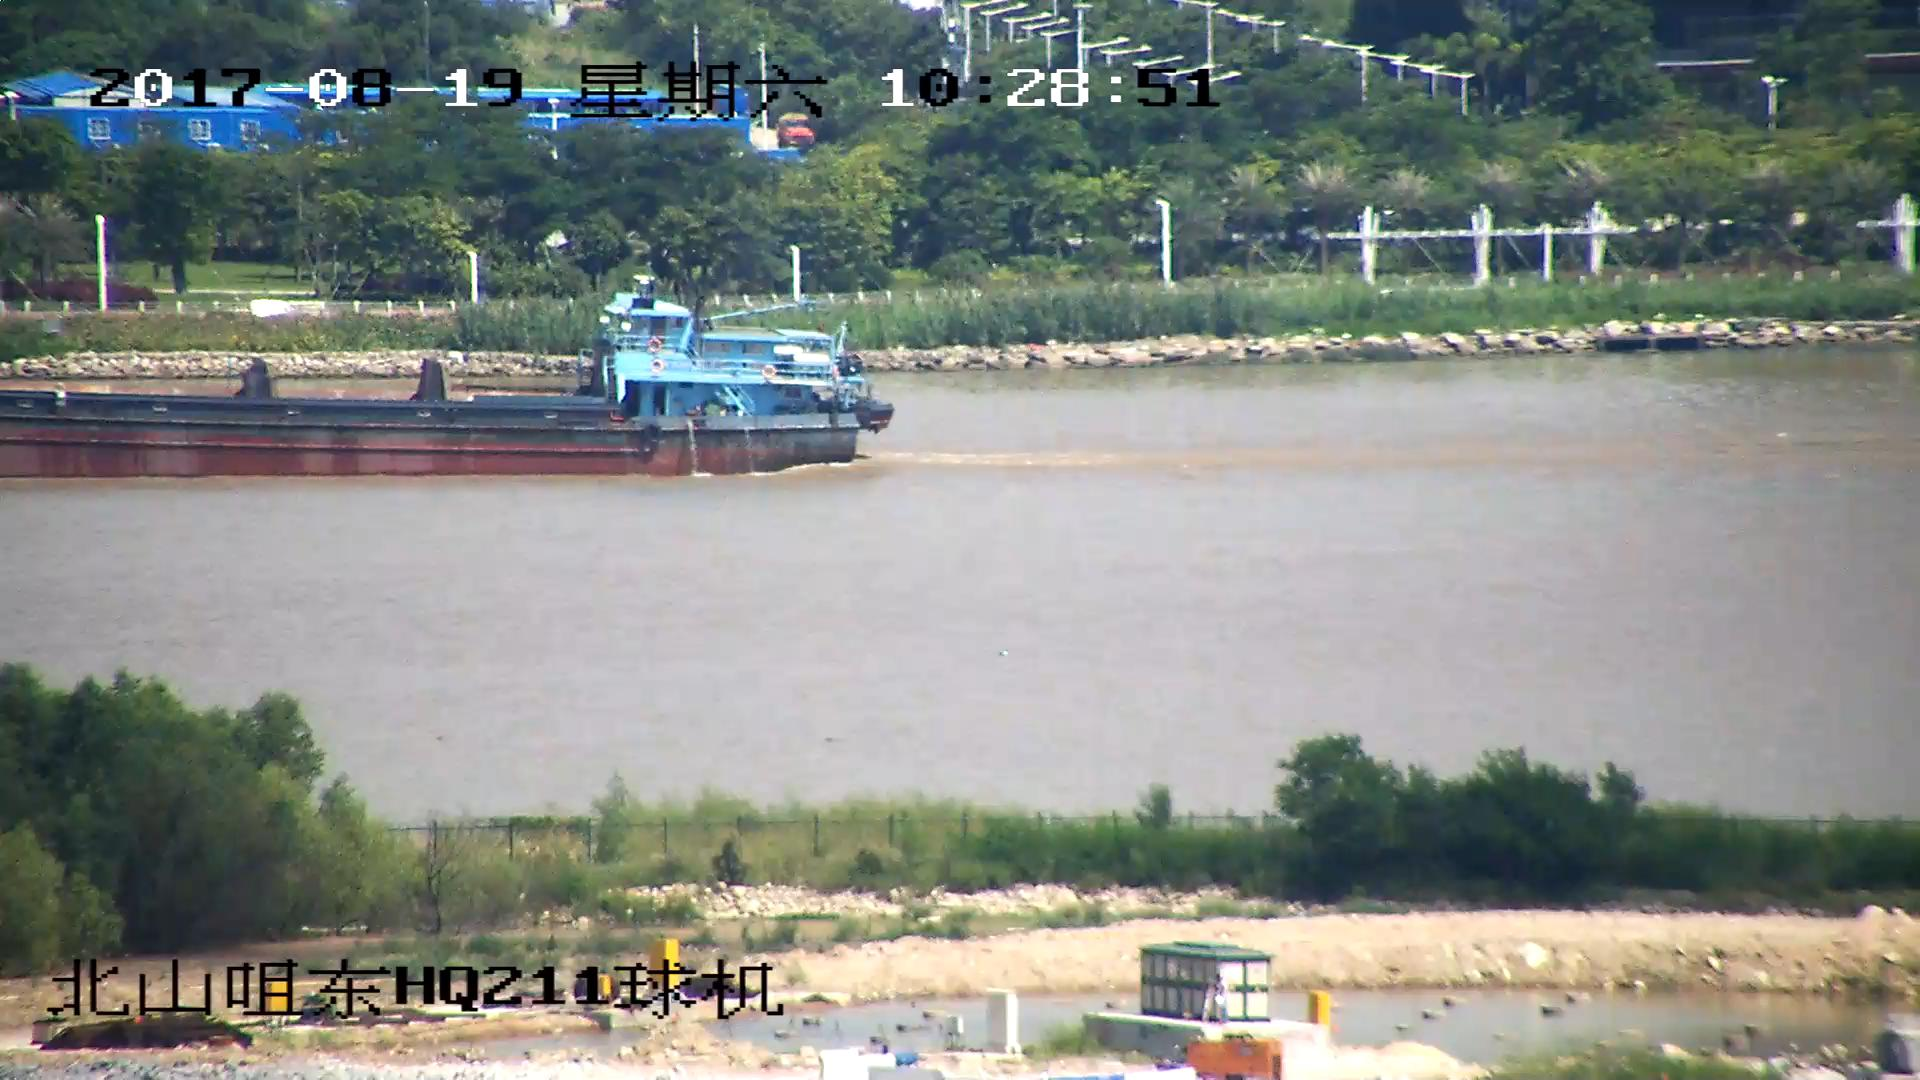bulk cargo carrier: (1, 283, 896, 483)
